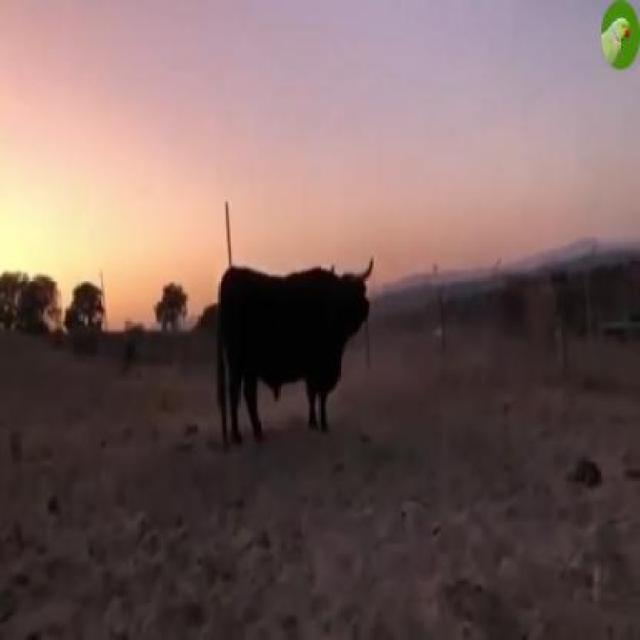Cow: (215, 254, 374, 451)
